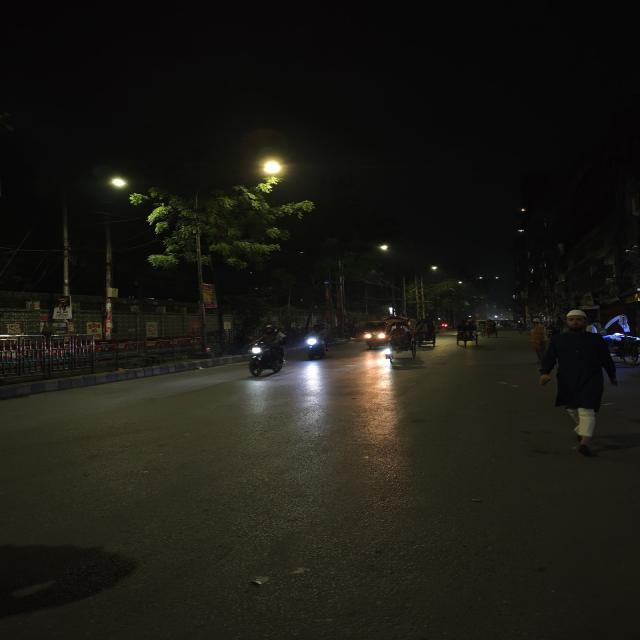cng: (360, 320, 387, 350)
motorcycle: (241, 324, 291, 382), (298, 323, 334, 362)
pedestrian: (533, 308, 623, 453), (528, 318, 548, 360), (484, 318, 500, 340), (514, 316, 527, 335)
rickshaw: (383, 314, 421, 362), (453, 318, 481, 350), (416, 318, 438, 349)
